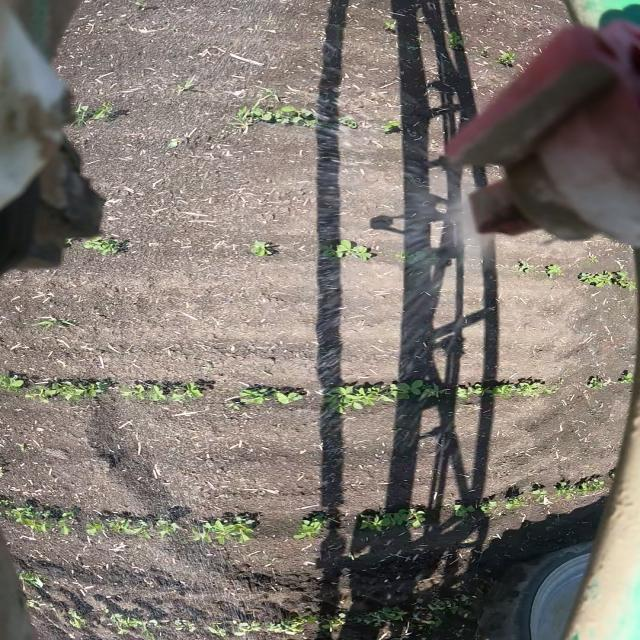plants: (230, 96, 316, 136), (28, 375, 118, 408), (228, 378, 310, 412), (120, 376, 212, 406), (181, 511, 267, 543), (346, 503, 434, 533), (76, 513, 169, 538), (373, 372, 449, 402), (448, 486, 505, 524), (550, 465, 613, 499), (320, 378, 381, 412), (312, 233, 376, 263), (409, 600, 472, 630), (504, 476, 558, 510), (75, 234, 138, 263), (577, 266, 640, 293), (67, 100, 133, 124), (289, 509, 334, 544), (33, 506, 80, 538), (488, 375, 554, 397), (426, 22, 470, 54), (388, 247, 449, 270), (242, 614, 309, 634), (108, 614, 160, 638), (0, 492, 31, 525), (372, 14, 416, 37), (449, 374, 486, 401), (352, 607, 407, 625), (321, 112, 368, 132), (33, 315, 80, 335), (244, 237, 284, 260), (493, 48, 527, 75), (202, 614, 240, 637), (314, 610, 348, 632), (58, 608, 90, 630), (4, 369, 31, 392), (378, 118, 407, 139), (16, 568, 50, 584), (587, 374, 620, 389), (508, 256, 533, 275), (167, 616, 197, 631), (614, 365, 640, 382), (542, 262, 564, 279), (26, 598, 48, 612)
